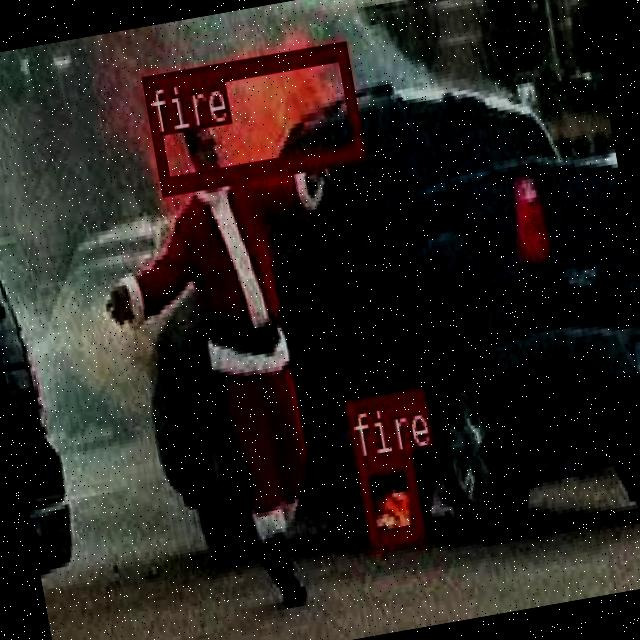fire: (140, 41, 362, 190), (354, 451, 424, 544)
